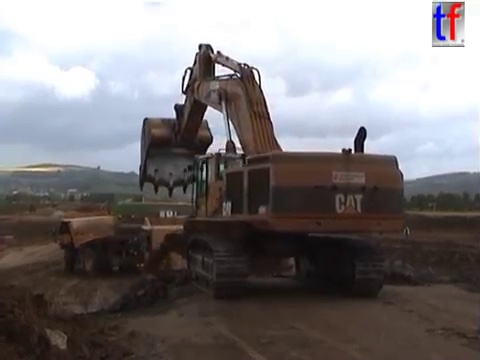excavator: (135, 39, 409, 300), (92, 199, 116, 219)
truck: (125, 215, 297, 294), (50, 213, 198, 279), (27, 200, 40, 215), (49, 200, 59, 209)
worker: (402, 222, 413, 241)
